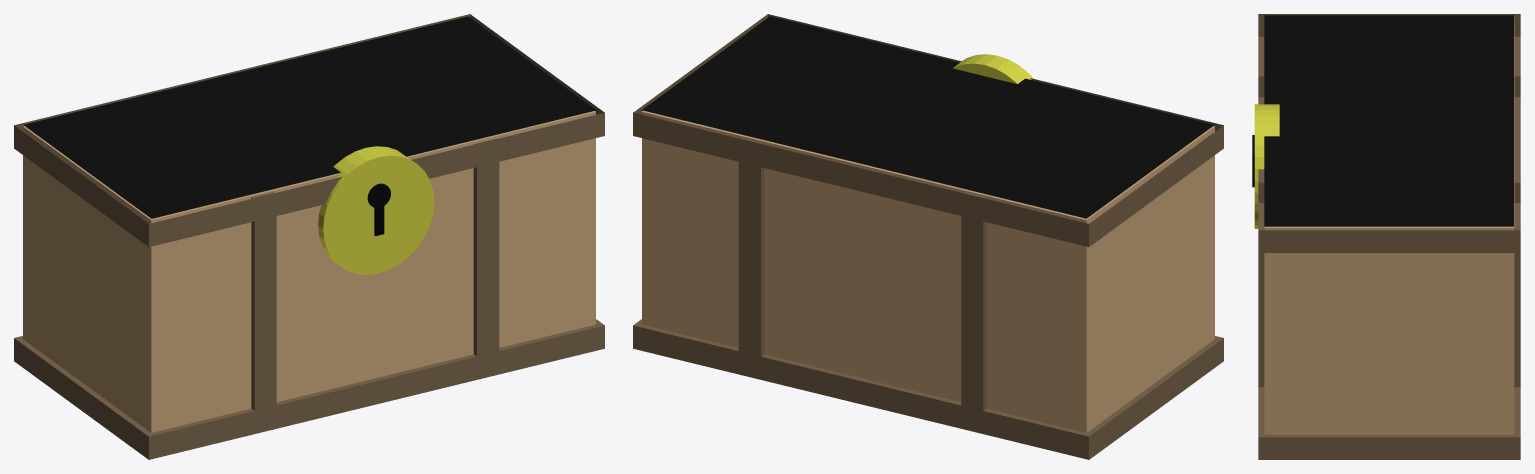
Rendered from treasureV2Open.fbx.
The picture shows the model from 3 angles, left to right: view 1: azimuth 30°, elevation 25°; view 2: azimuth 150°, elevation 25°; view 3: azimuth 270°, elevation 25°; orthographic projection. The views are drawn at different scales.
Visible parts, largest first — view 1: TreasureChest, Plane; view 2: TreasureChest, Plane; view 3: TreasureChest, Plane.
Part boxes in pixels (box(x1,y1,x2,y2)): TreasureChest: box(14, 14, 604, 459); Plane: box(24, 16, 595, 218); TreasureChest: box(633, 14, 1223, 459); Plane: box(642, 16, 1214, 218); TreasureChest: box(1252, 14, 1520, 459); Plane: box(1264, 15, 1513, 226).
Bounding box in the file's own units: 410 × 214 × 215.
